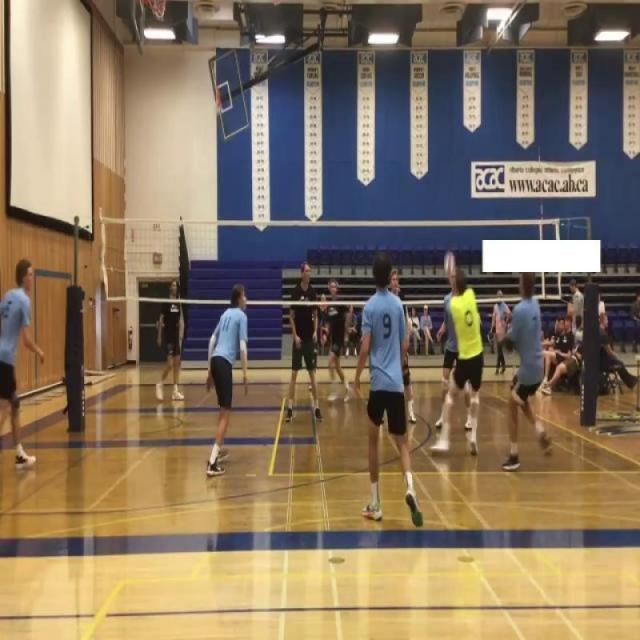volleyball: (443, 249, 456, 279)
